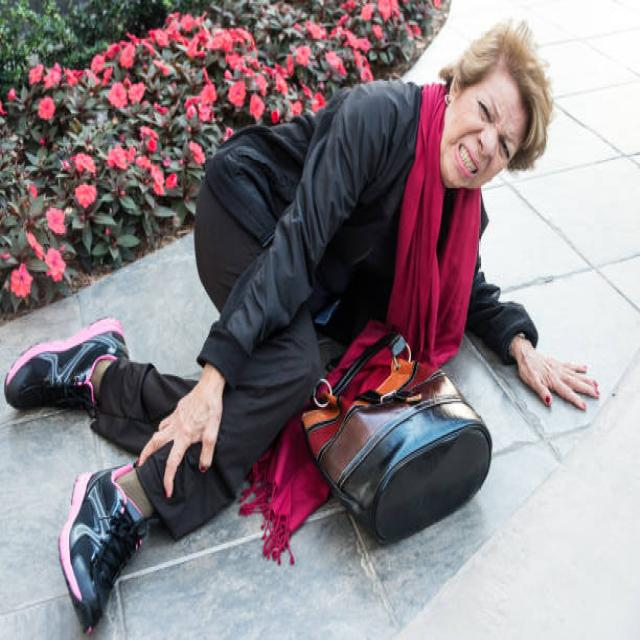lie: (45, 20, 582, 615)
